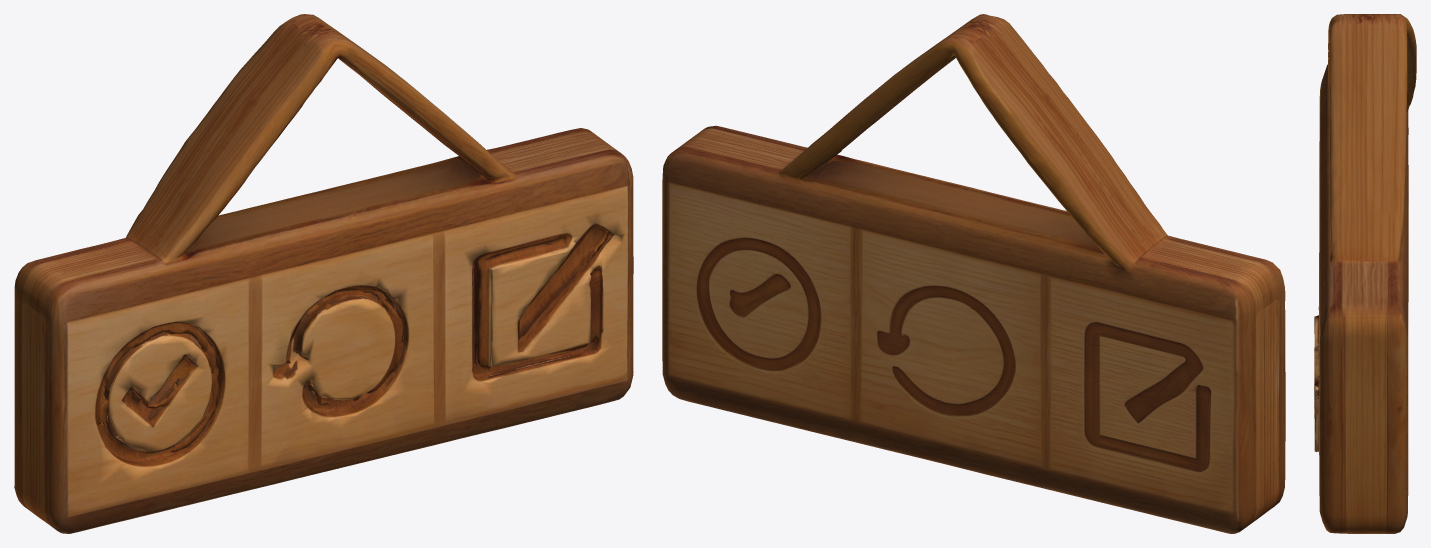
File: Thin_wooden_board_wit_0807025810_texture.fbx
The picture shows the model from 3 angles, left to right: view 1: azimuth 30°, elevation 25°; view 2: azimuth 150°, elevation 25°; view 3: azimuth 270°, elevation 25°; orthographic projection. The views are drawn at different scales.
Parts seen in each view (by area): view 1: Mesh1.0; view 2: Mesh1.0; view 3: Mesh1.0.
Part boxes in pixels (x1,y1,x2,y2): Mesh1.0: (14, 14, 633, 533); Mesh1.0: (662, 14, 1285, 533); Mesh1.0: (1314, 14, 1416, 533).
Bounding box in the file's own units: 200 × 140 × 33.26.
1 material, 1 textured.
